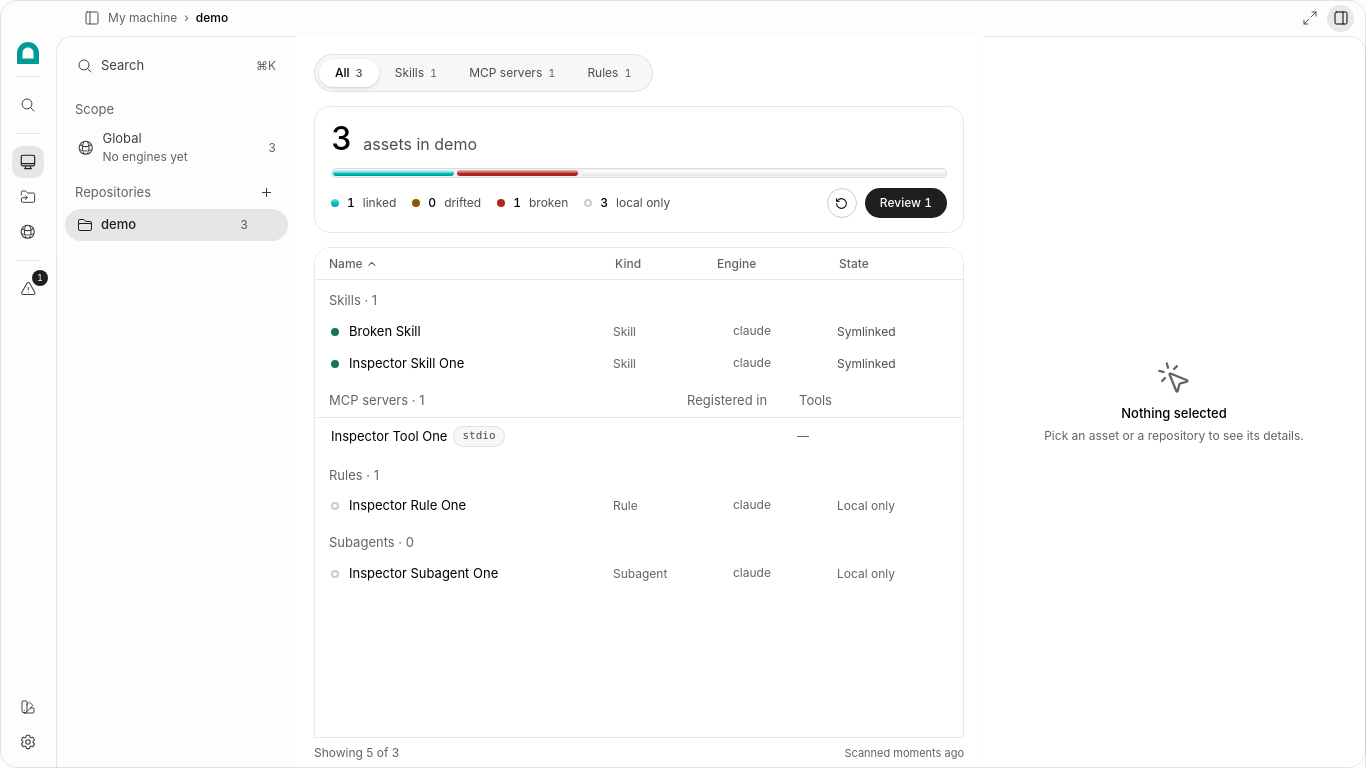
Test: Avionics A5 — Docked Right Inspector Integration › 7. Selecting a row sets the inspector to THAT asset — assert the asset's own path string renders, not merely that a path renders
Click the text "Inspector Tool One": (389, 436) [331,426,448,446]
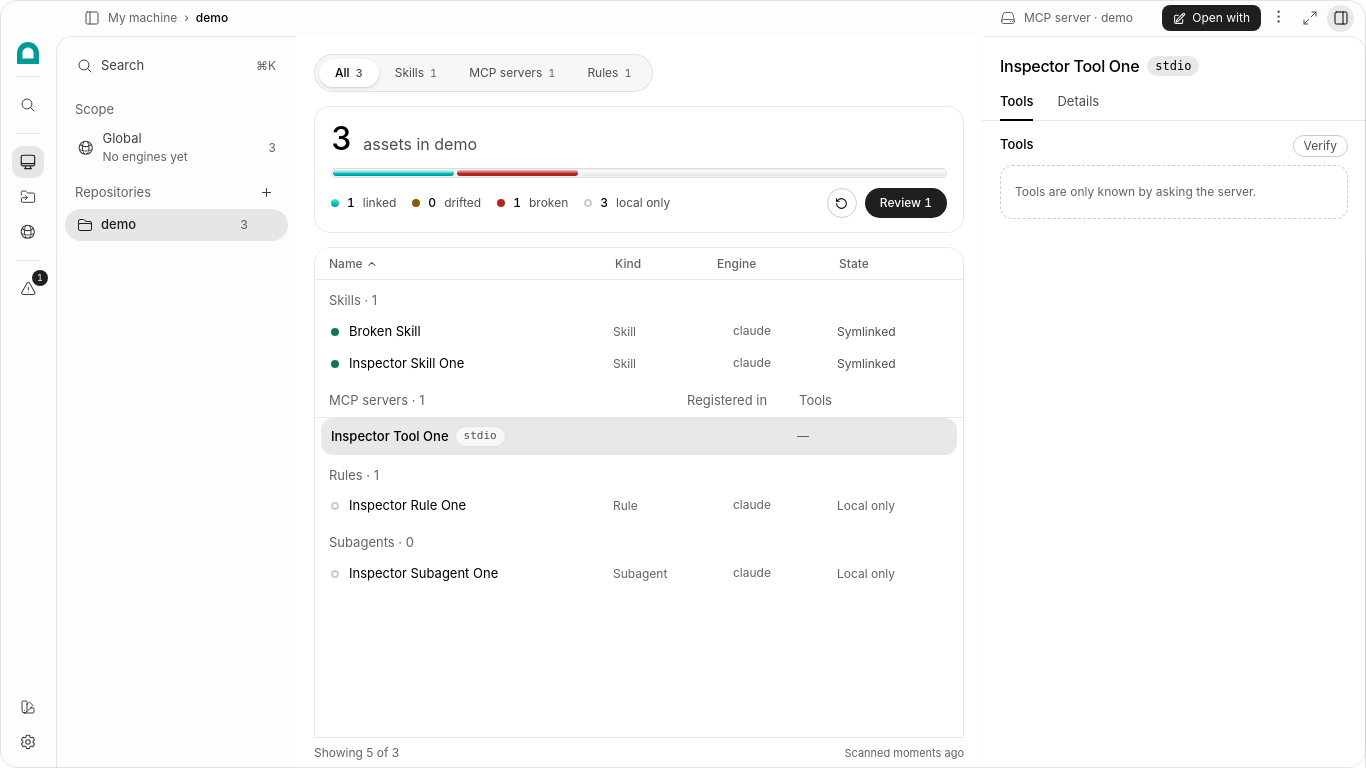
Click the tab "Details": (1078, 102) [1058,84,1099,120]
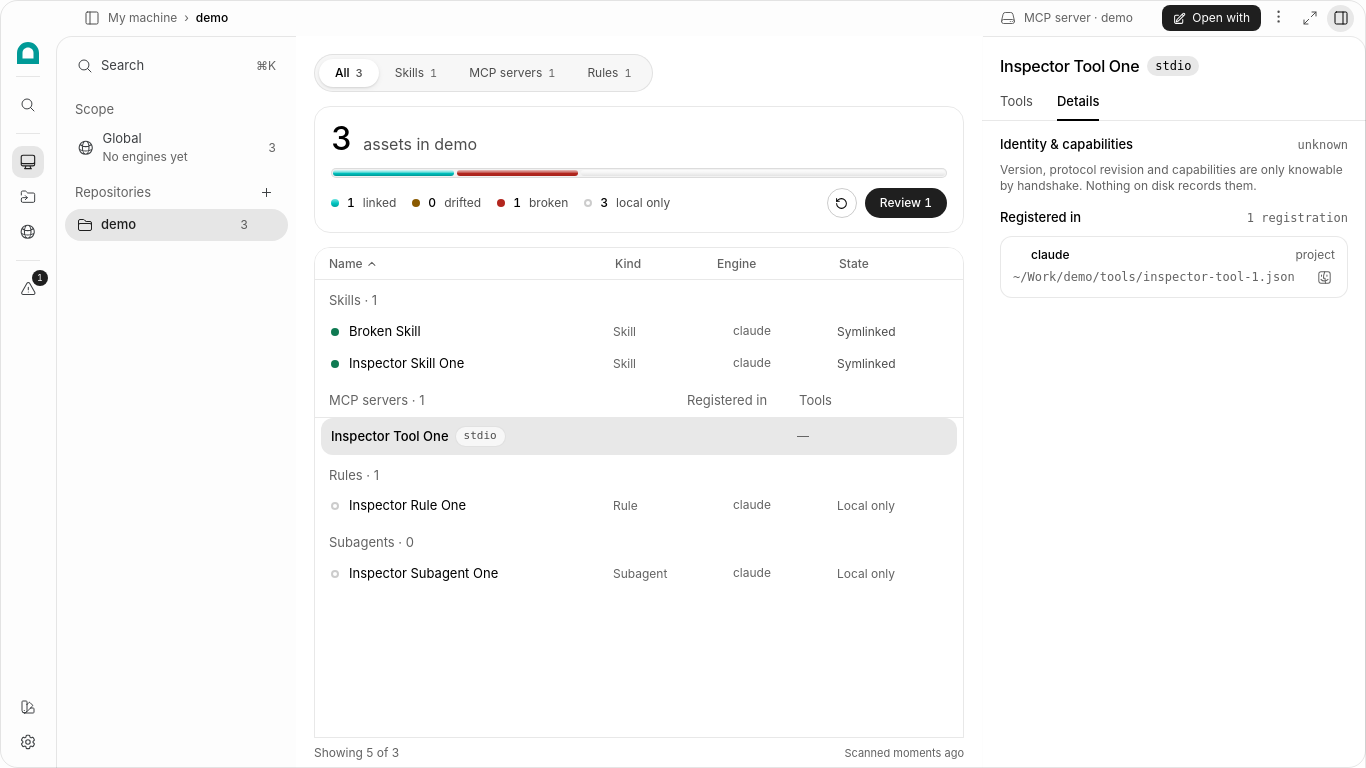
Now the text "~/Work/demo/tools/inspector-tool-1.json" is shown, box [1013,268,1308,286]
